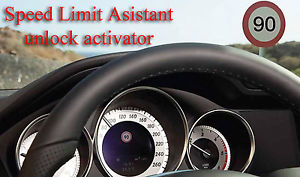Speed_limit_90km: (242, 1, 285, 48)
